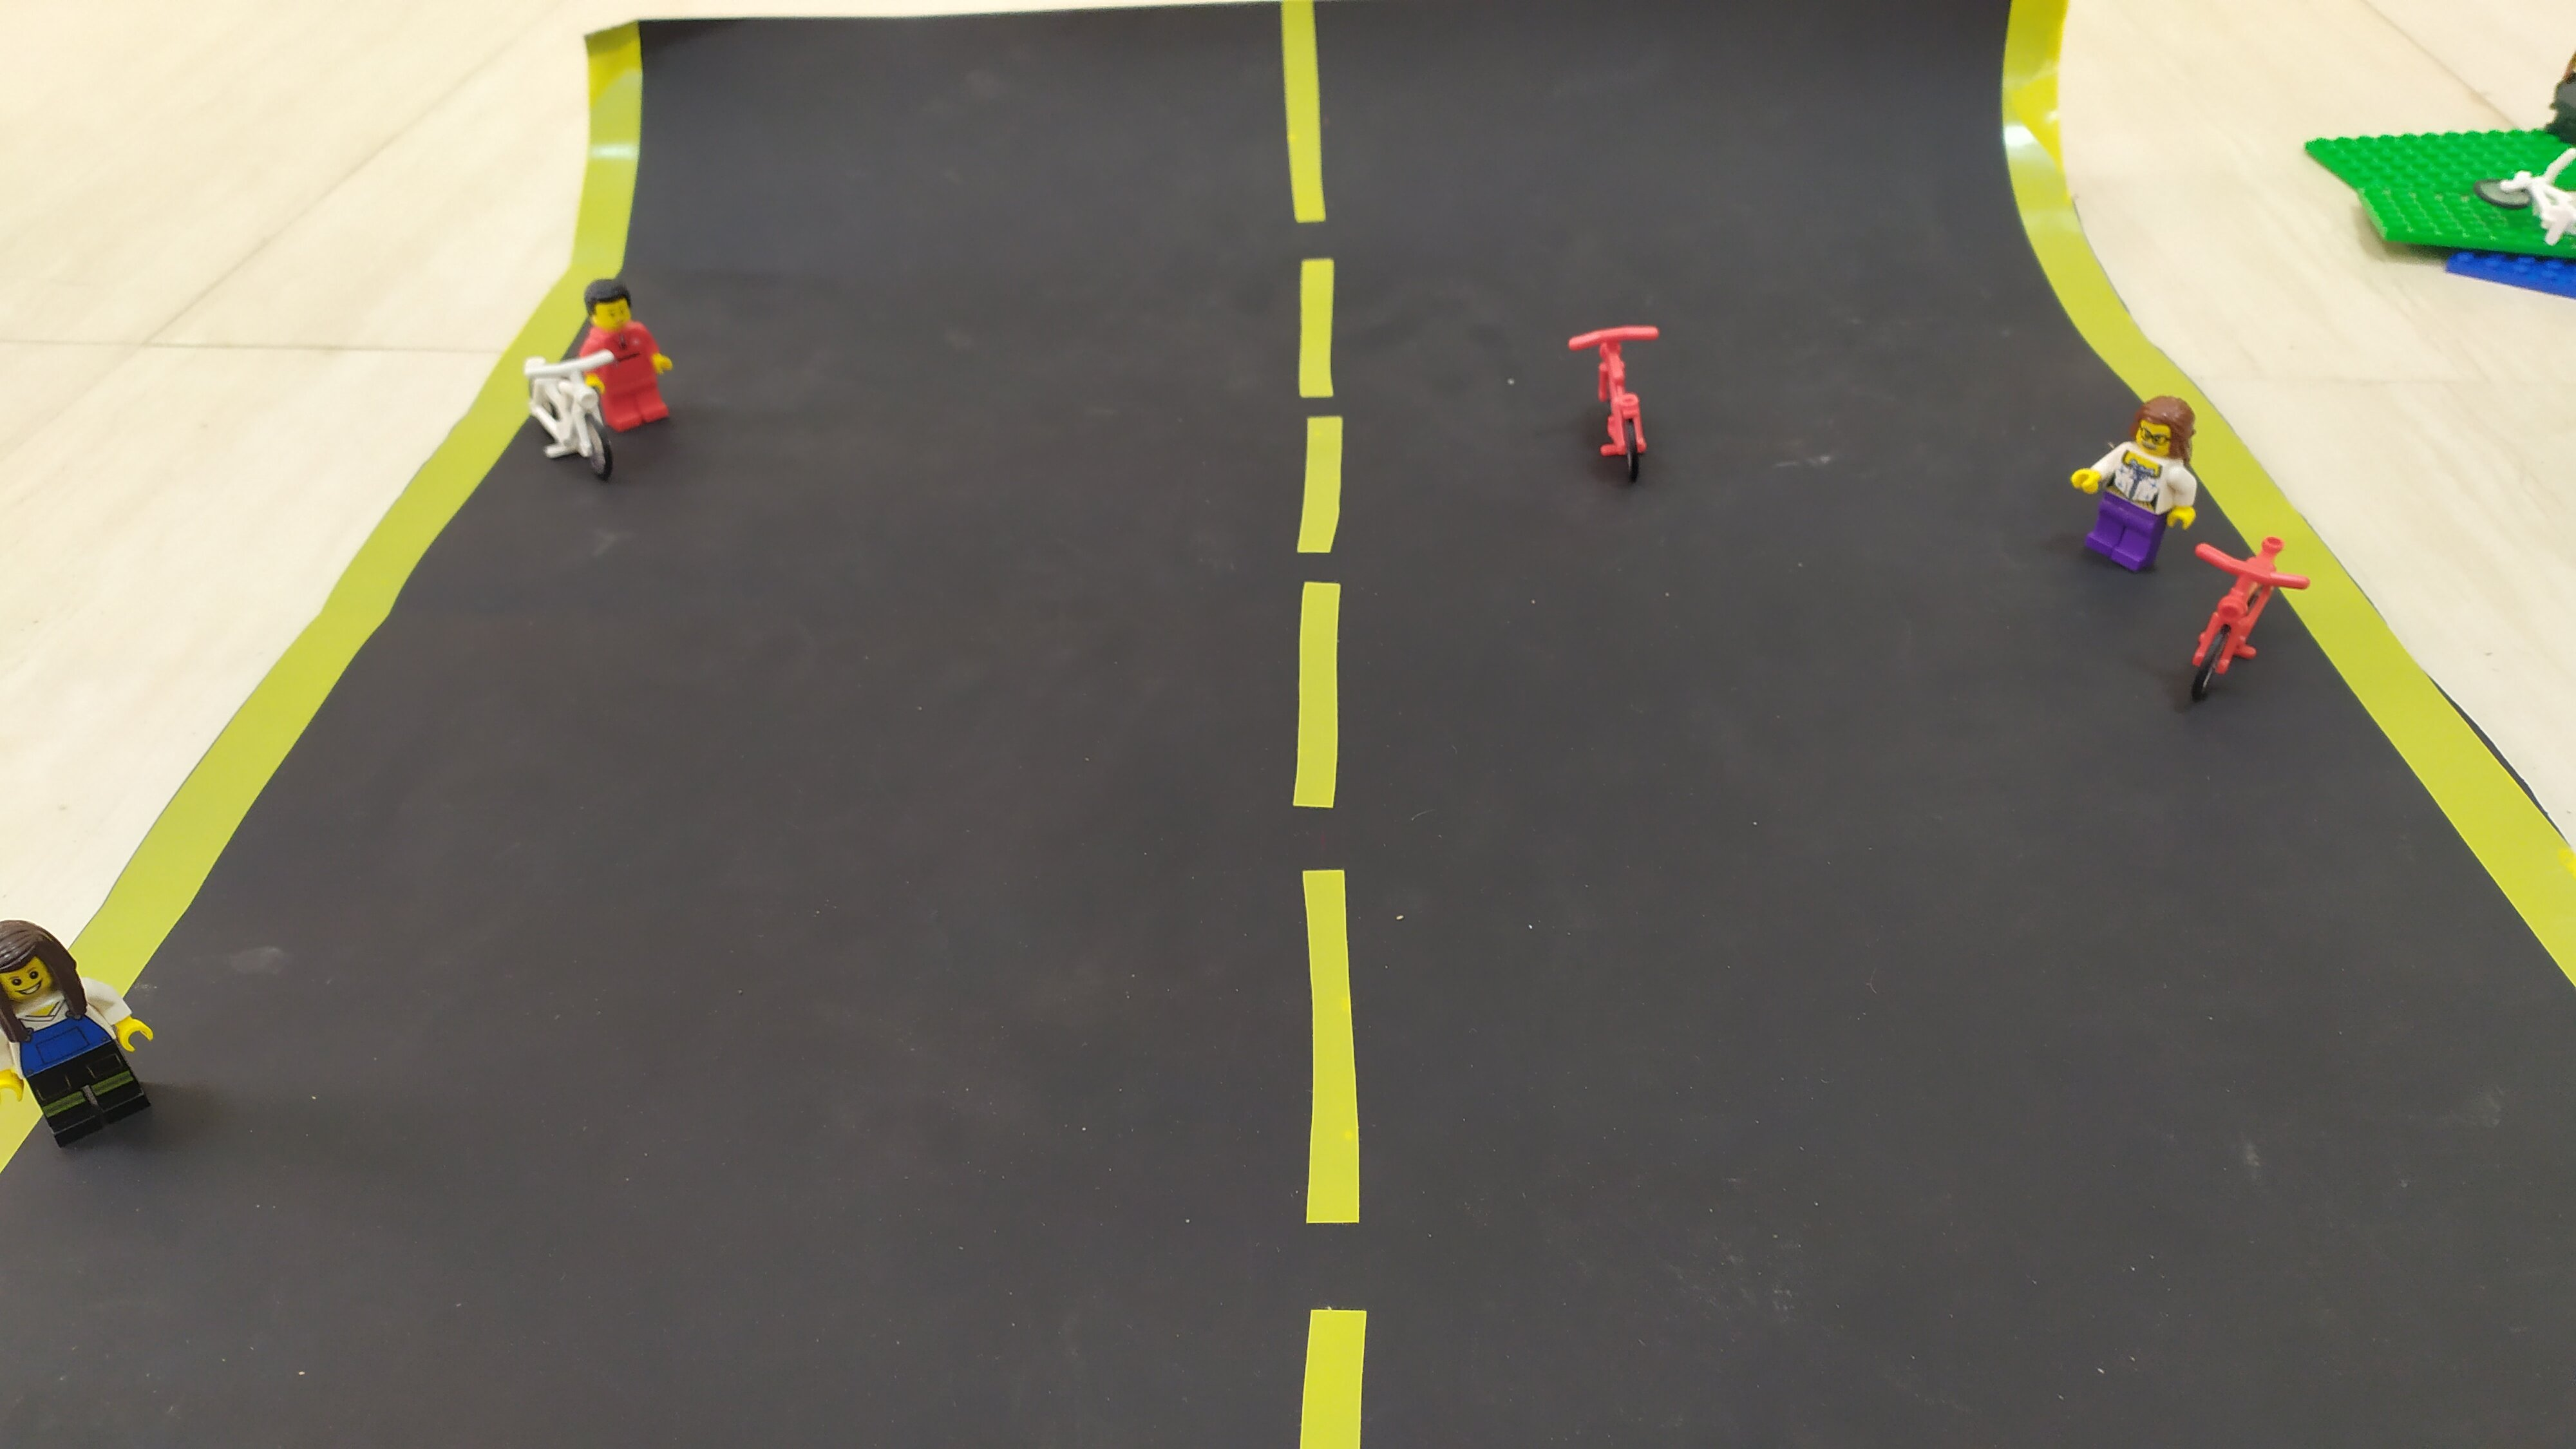person: (1, 911, 138, 1193), (2051, 396, 2225, 596), (544, 261, 686, 441)
